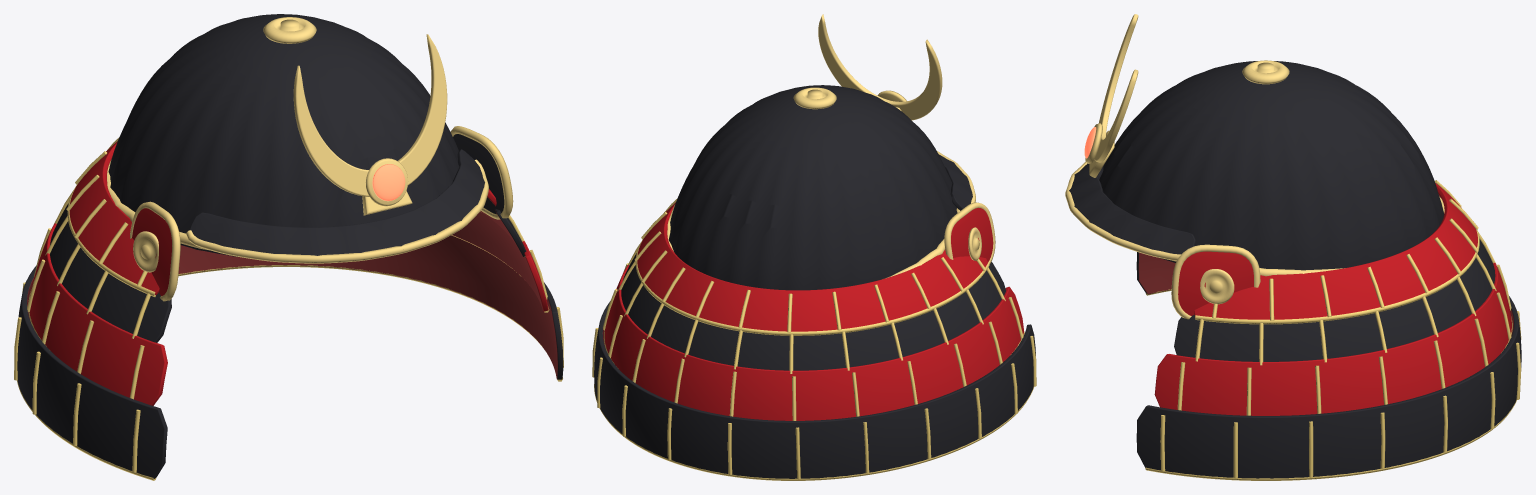
File: samurai.glb
3 views of the same model, side by side, from view 1: azimuth 30°, elevation 25°; view 2: azimuth 150°, elevation 25°; view 3: azimuth 270°, elevation 25° (orthographic). The views are drawn at different scales.
Visible parts, largest first — view 1: samurai_body, pulse_samurai_sun; view 2: samurai_body; view 3: samurai_body.
Boxes of the visible parts, x1,y1,x2,y2 form: samurai_body: (14, 14, 563, 480); pulse_samurai_sun: (372, 164, 405, 201); samurai_body: (592, 14, 1036, 480); samurai_body: (1065, 14, 1521, 480).
Bounding box in the file's own units: 2.01 × 1.61 × 1.93.
